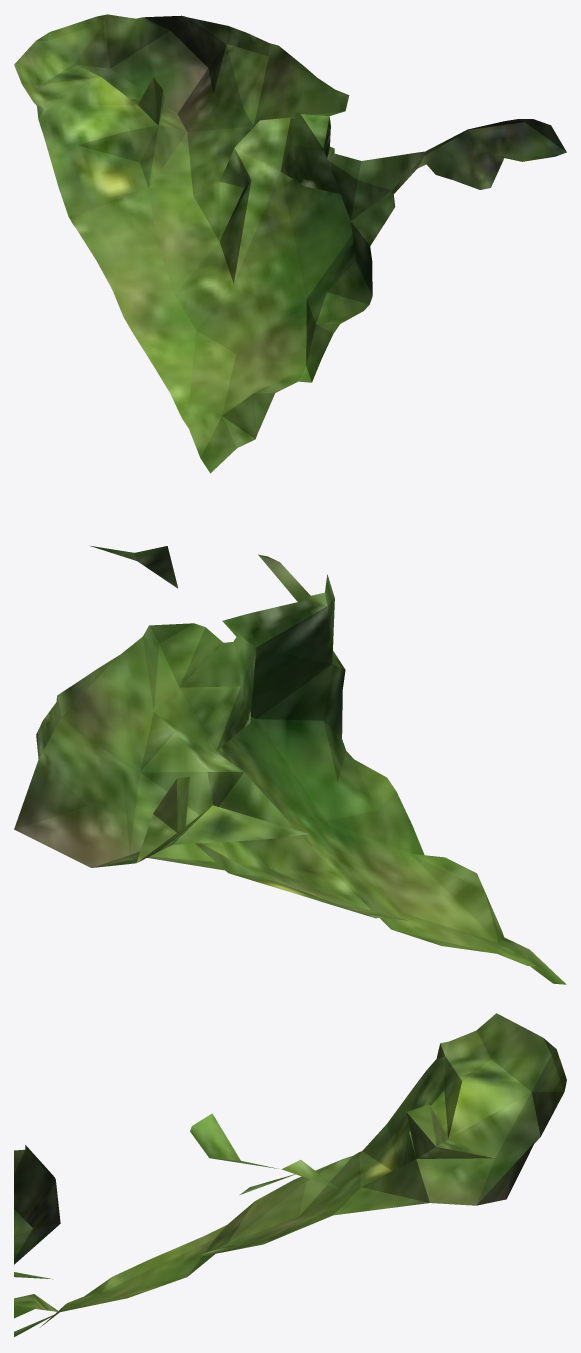
3 renders of one model, top to bottom at view 1: azimuth 30°, elevation 25°; view 2: azimuth 150°, elevation 25°; view 3: azimuth 270°, elevation 25°, orthographic. The views are drawn at different scales.
Bounding box in the file's own units: 8.51 × 6.05 × 9.31.
Materials: 1 (1 with a texture image).
